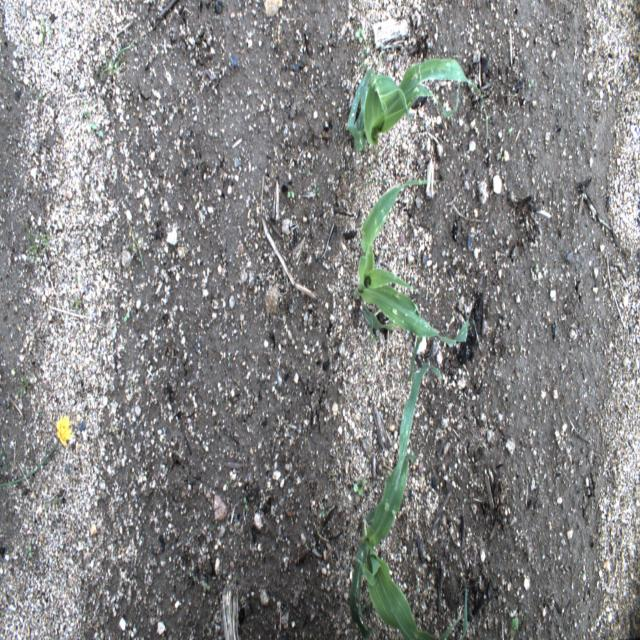crop: (350, 362, 463, 639), (353, 180, 469, 382), (347, 58, 488, 151), (460, 583, 468, 640)
weed: (0, 414, 76, 487), (100, 37, 136, 82), (125, 225, 144, 269), (32, 220, 52, 256), (12, 370, 35, 400), (24, 220, 40, 261), (360, 35, 372, 78), (39, 14, 53, 46), (352, 476, 367, 498), (0, 438, 10, 470), (374, 142, 387, 164), (374, 47, 382, 78), (44, 496, 59, 511), (509, 618, 519, 639), (68, 295, 80, 312), (92, 122, 103, 138), (355, 27, 365, 44), (312, 186, 321, 199), (123, 311, 130, 322), (286, 192, 296, 199), (528, 78, 534, 88), (28, 544, 32, 558), (244, 496, 248, 510), (508, 126, 513, 133)
